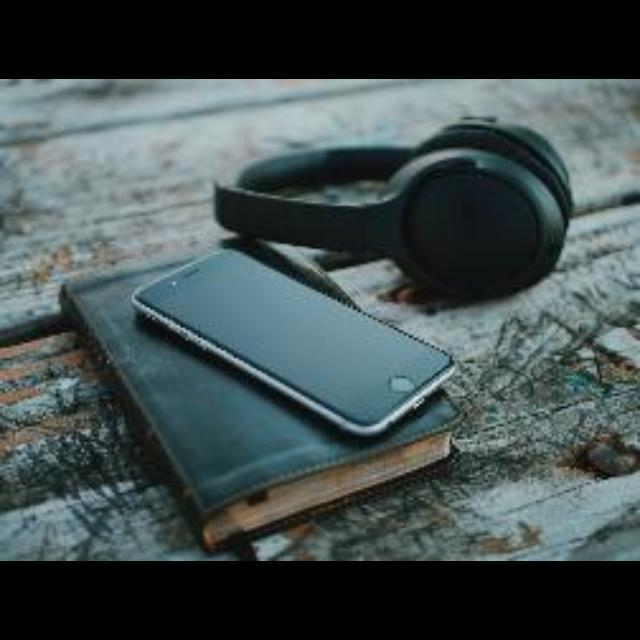Phone: (134, 248, 460, 438)
